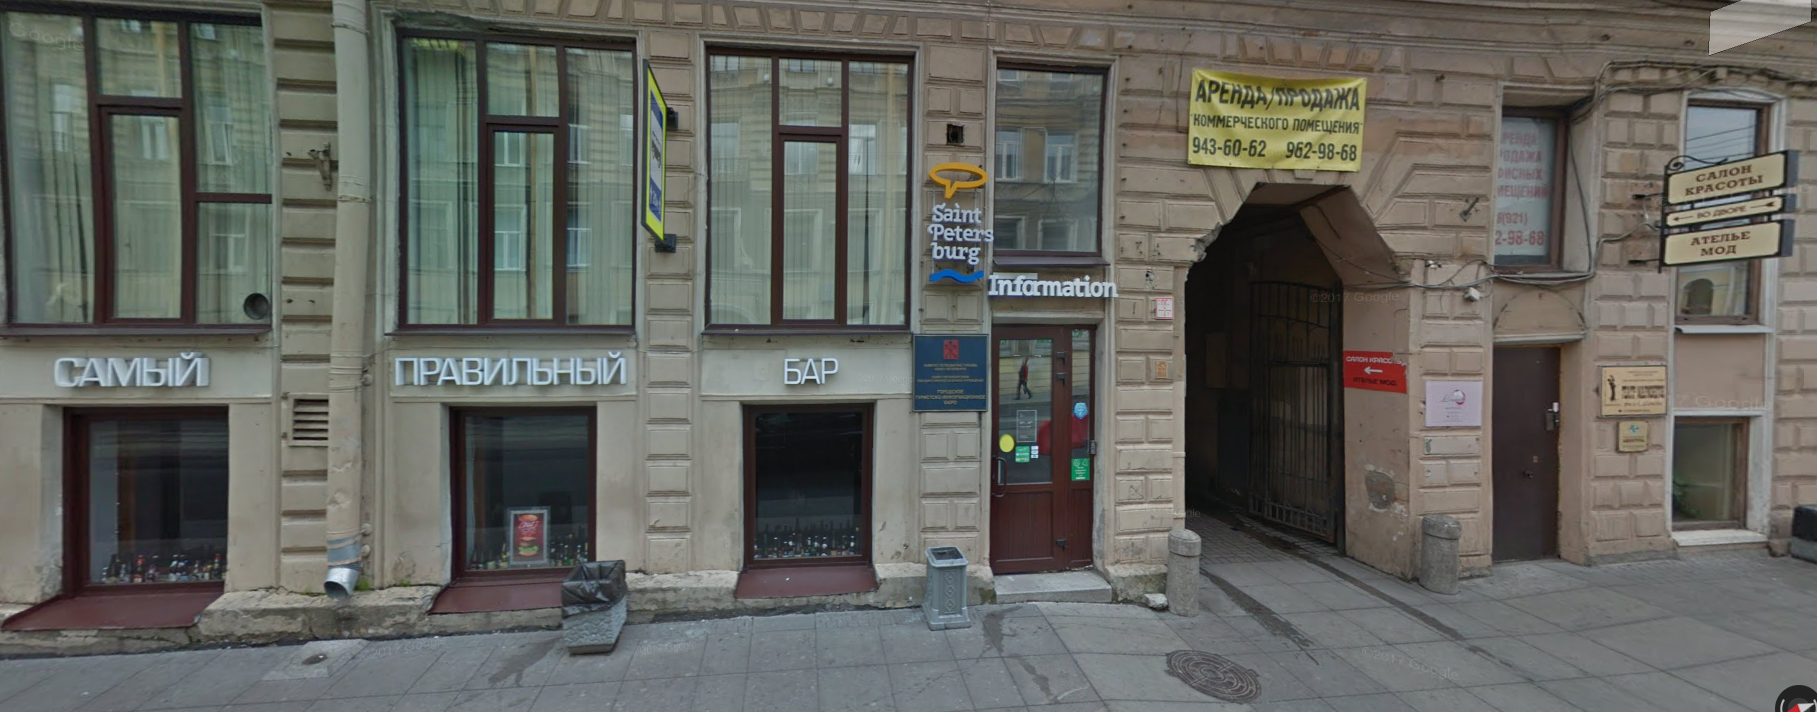arch: (1176, 165, 1425, 593)
cantilever: (1623, 141, 1801, 289)
door: (986, 318, 1105, 575), (1486, 327, 1584, 572)
signboard: (389, 342, 637, 399), (44, 339, 222, 397), (931, 161, 992, 299), (988, 263, 1124, 315), (1603, 361, 1672, 414), (775, 355, 846, 394)
window: (1, 3, 270, 332), (396, 23, 637, 341), (706, 39, 905, 332), (44, 404, 231, 596), (448, 407, 601, 583), (991, 45, 1108, 261), (744, 404, 869, 571), (1498, 97, 1563, 274), (1668, 412, 1753, 538)
